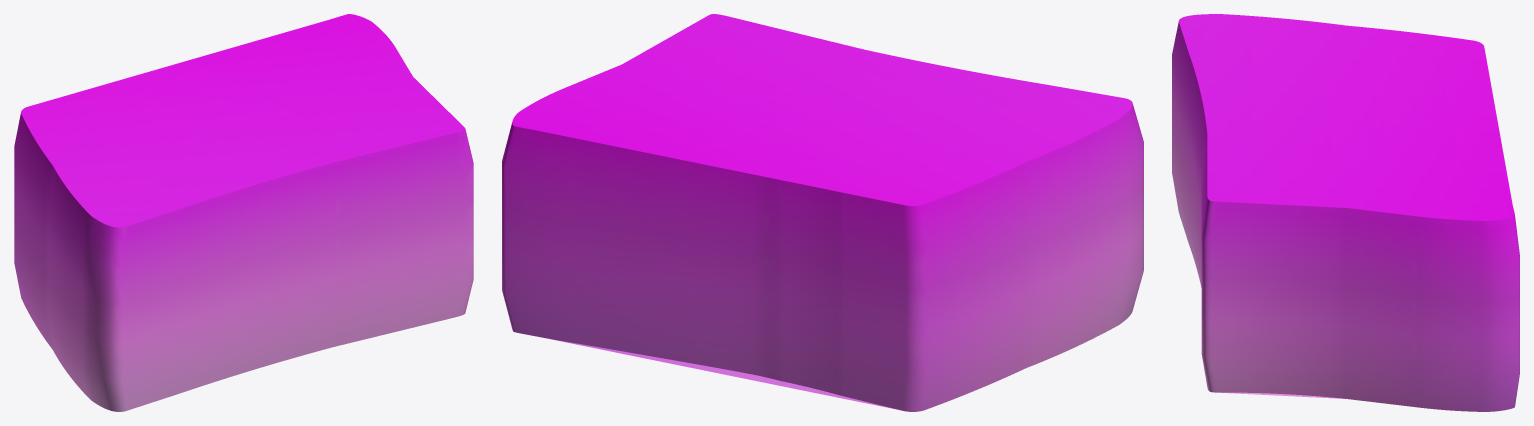
3 renders of one model, left to right at view 1: azimuth 30°, elevation 25°; view 2: azimuth 150°, elevation 25°; view 3: azimuth 270°, elevation 25°, orthographic. The views are drawn at different scales.
Parts seen in each view (by area): view 1: Curve.012; view 2: Curve.012; view 3: Curve.012.
Part boxes in pixels (x1,y1,x2,y2): Curve.012: (14,14,473,411); Curve.012: (502,14,1143,411); Curve.012: (1172,14,1519,411).
Size of the model in its own units: 27.3 by 11.36 by 18.74.
Materials: 1 (1 with a texture image).
